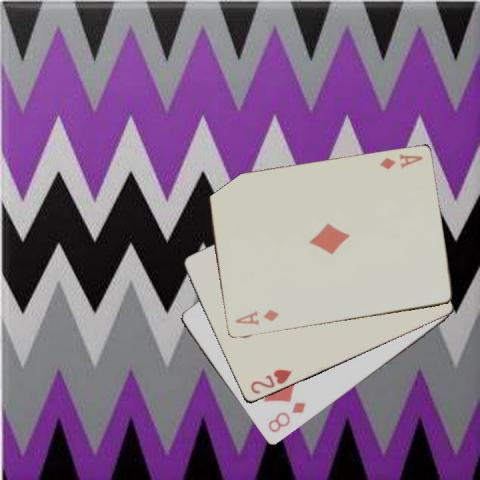2h: (247, 366, 293, 396)
8d: (265, 399, 307, 435)
Ad: (231, 307, 280, 327), (375, 152, 424, 172)
